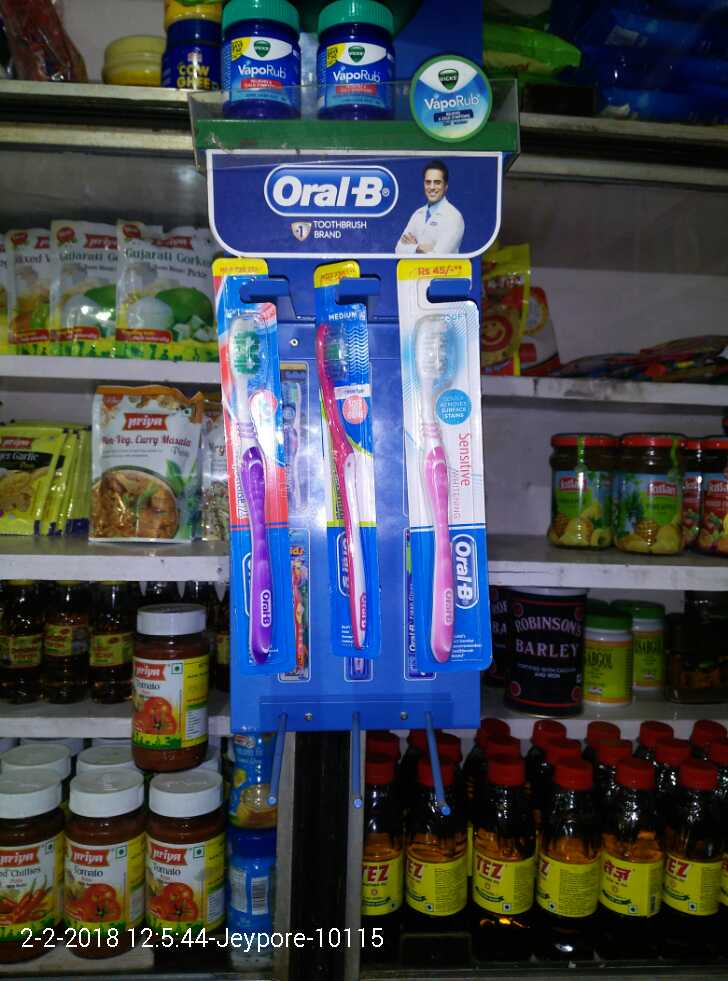pharmacy: (395, 256, 506, 681), (211, 257, 300, 674), (309, 263, 390, 668), (309, 2, 403, 121), (215, 1, 301, 120)
